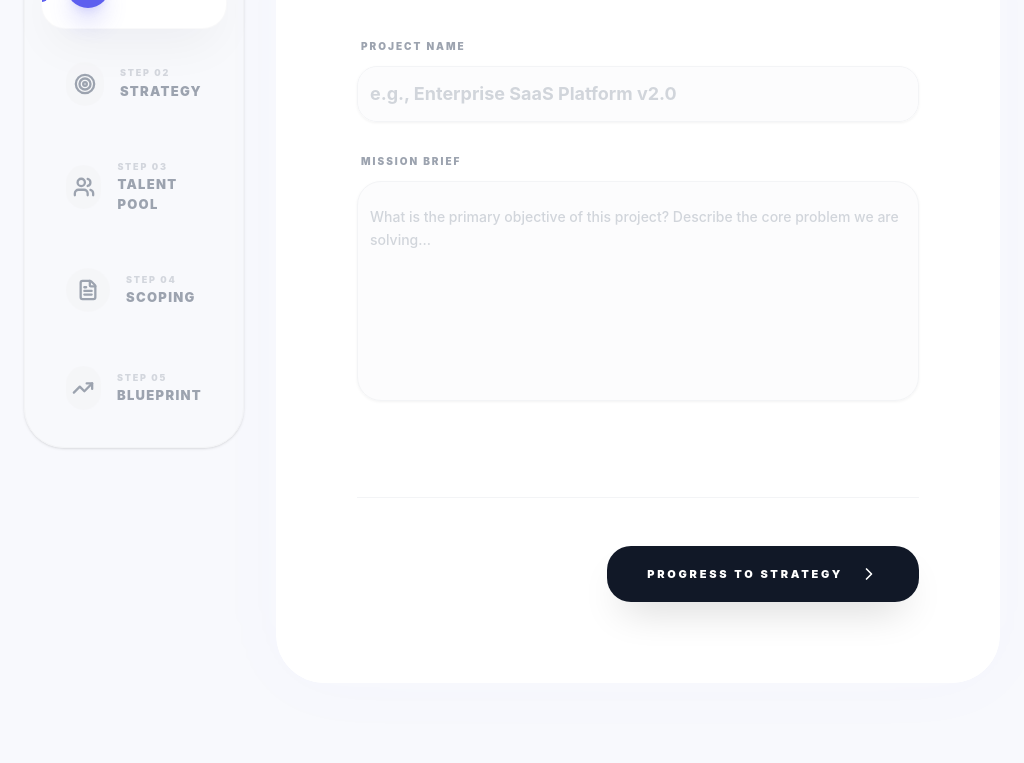
Test: ProjectGenesisWizard › affiche une erreur de validation si les champs sont vides
(page scrolled)
Click the button "Progress to Strategy": (763, 574) [607,546,919,602]
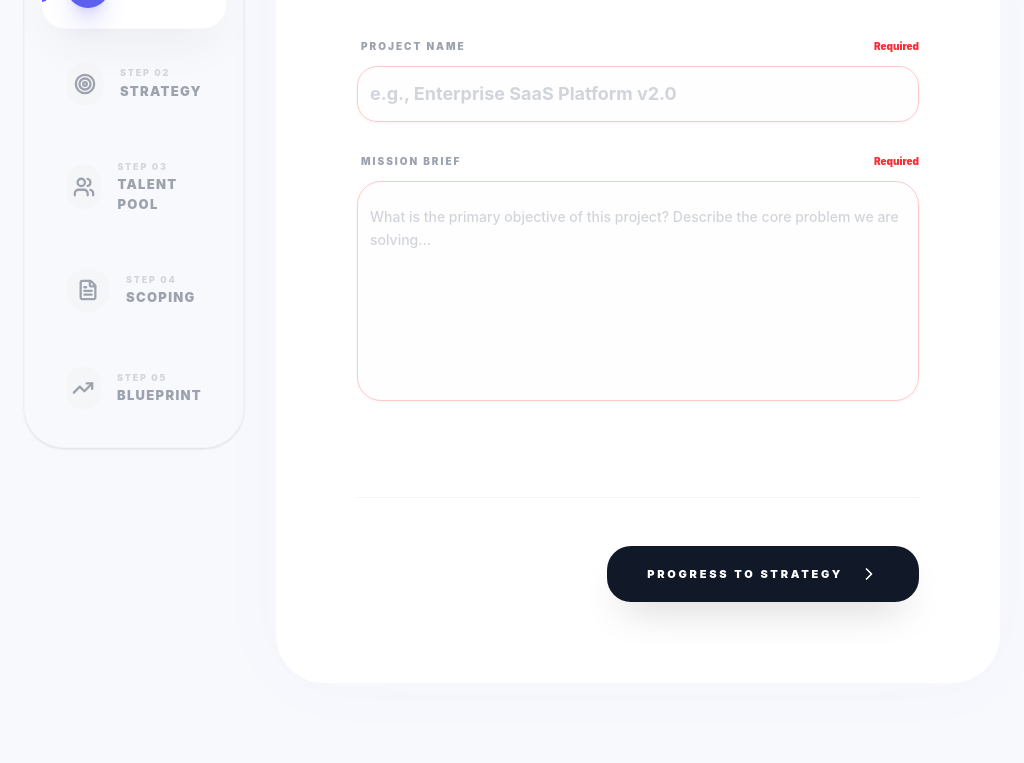
Now the text "Required" in the row of "Project Name" is shown, box [874,40,919,52]
